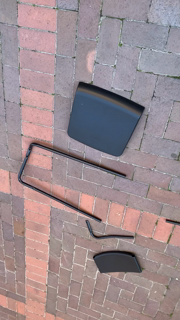Back: (93, 249, 144, 276)
L pipe: (84, 218, 136, 242)
Seat: (66, 80, 146, 160)
U pipe: (17, 140, 129, 225)
